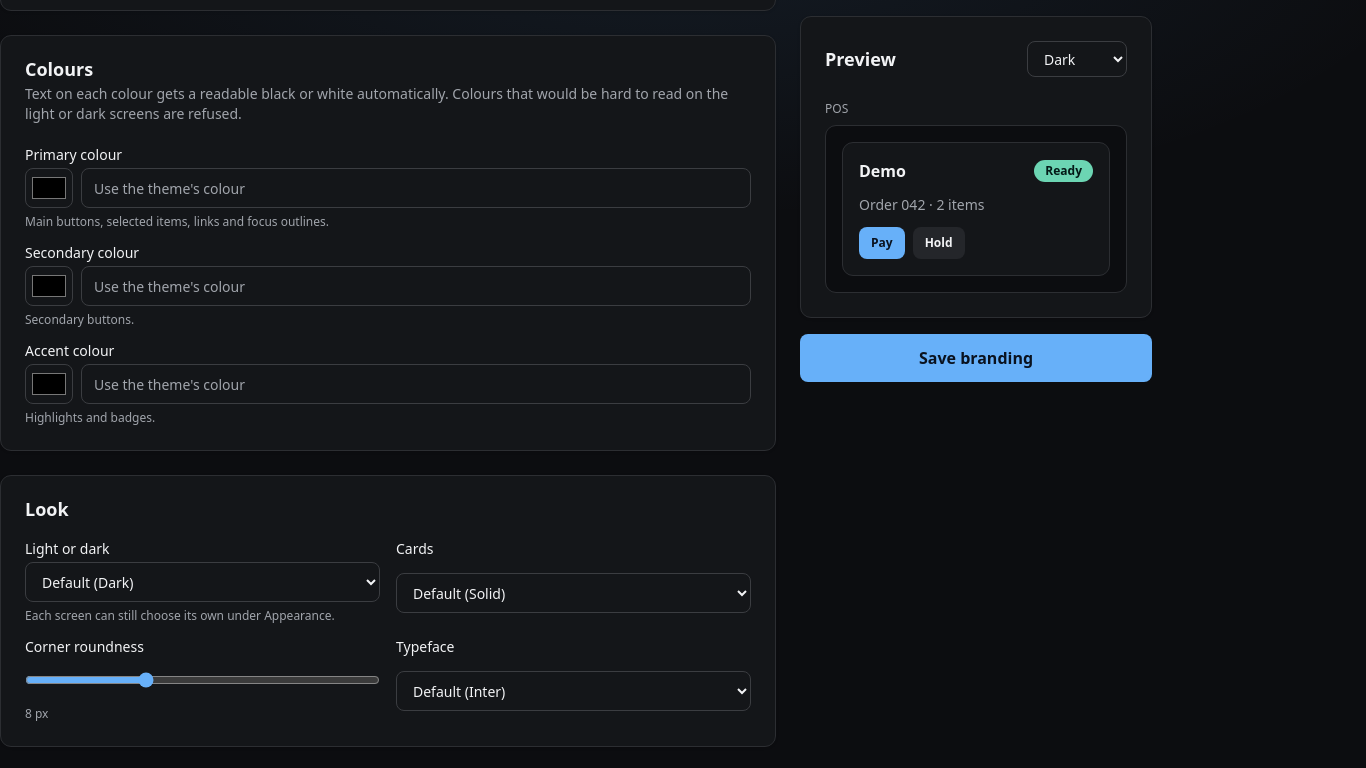
branding page › flags an unreadable colour before saving
The width and height of the screenshot is (1366, 768).
(page scrolled)
Type "#111827" into the field named "Accent colour (hex)" at (416, 384), box [81,364,751,404]
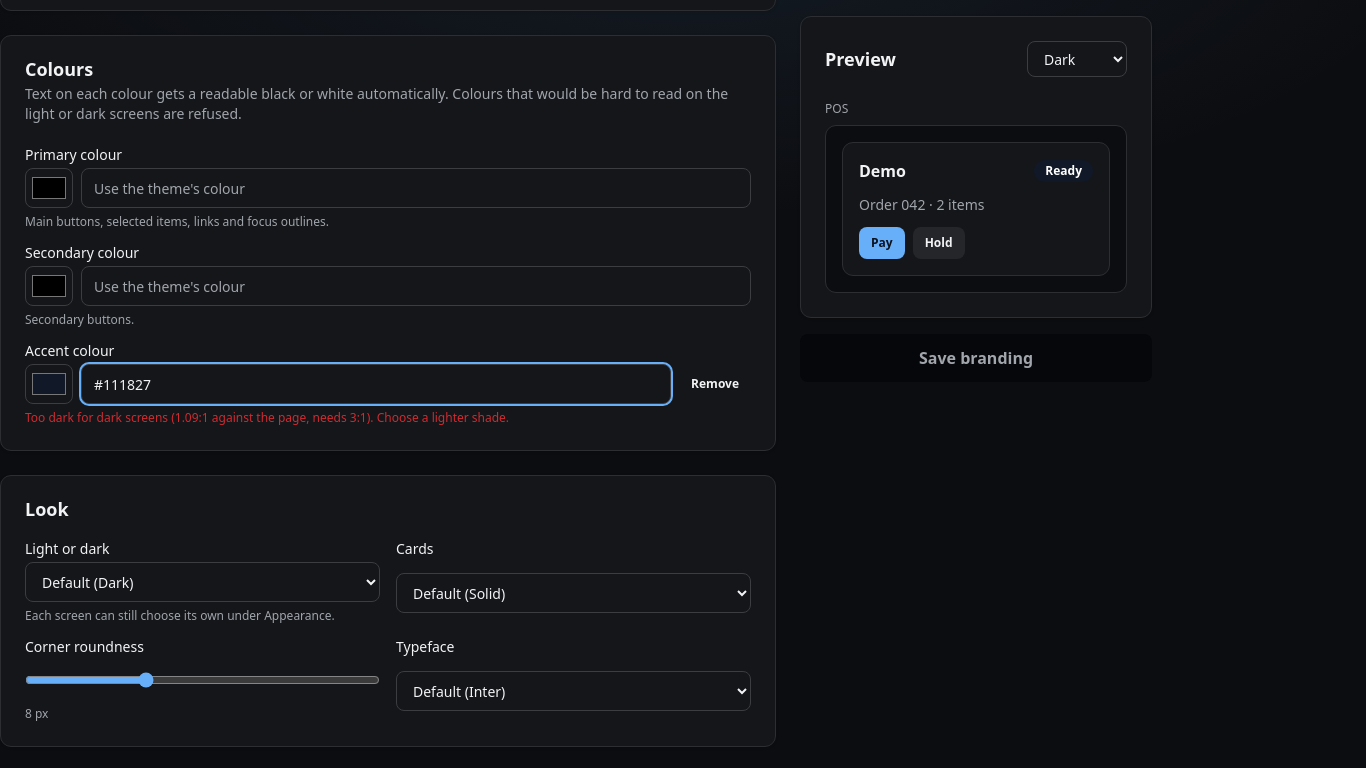
Check: the text "Too dark for dark screens" is shown, box [25,409,509,426]
Check: the button "Save branding" is disabled, box [800,334,1152,382]
